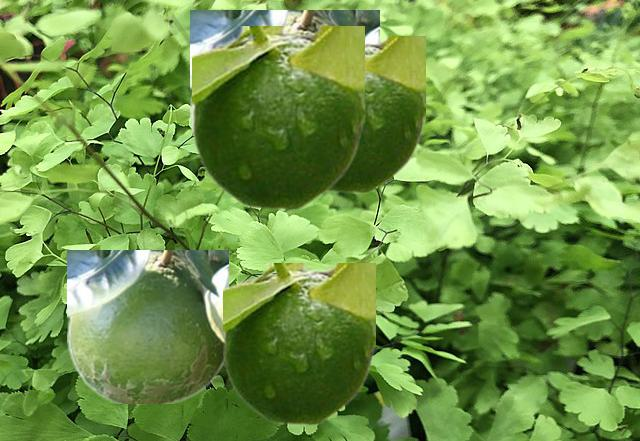dalandan: (192, 26, 363, 209), (190, 10, 378, 141), (67, 250, 227, 402), (223, 263, 374, 424), (328, 36, 424, 192)
